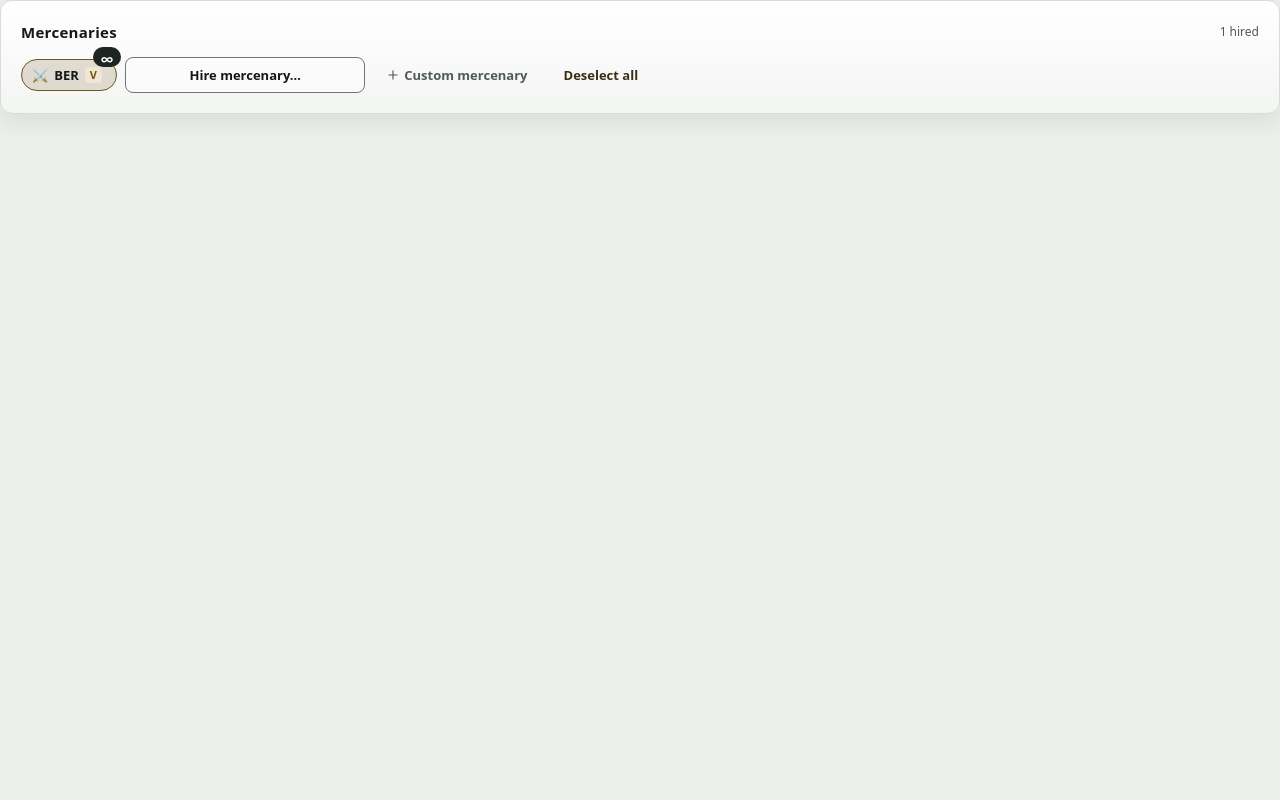
pressing a pill opens the quantity under it: a plain field, no step buttons
The width and height of the screenshot is (1280, 800).
Click the button named "Bear V: owned unlimited" at coordinates (107, 57), box [93, 47, 121, 67]
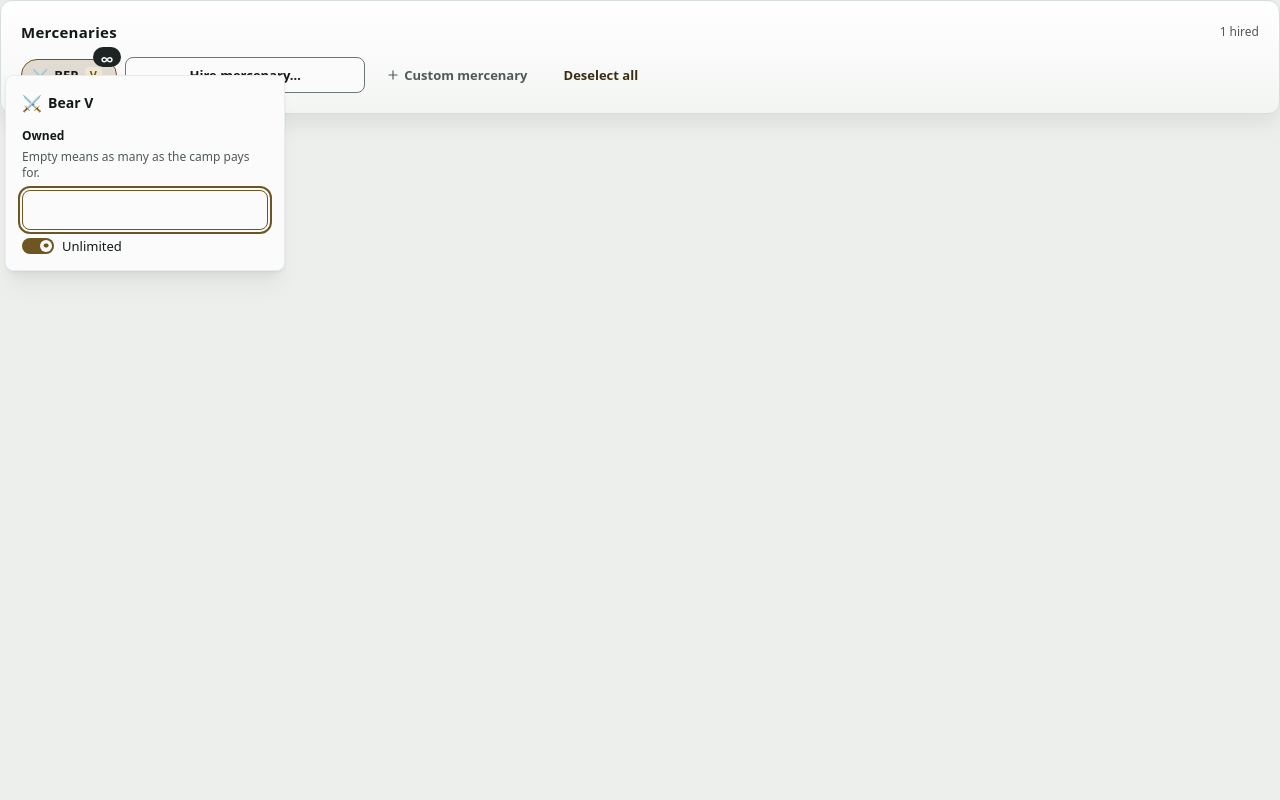
Result: the text "Bear V" is shown at [48, 92, 93, 114]
Type "22" into the field labelled "Owned" at coordinates (145, 210), box [22, 190, 268, 230]
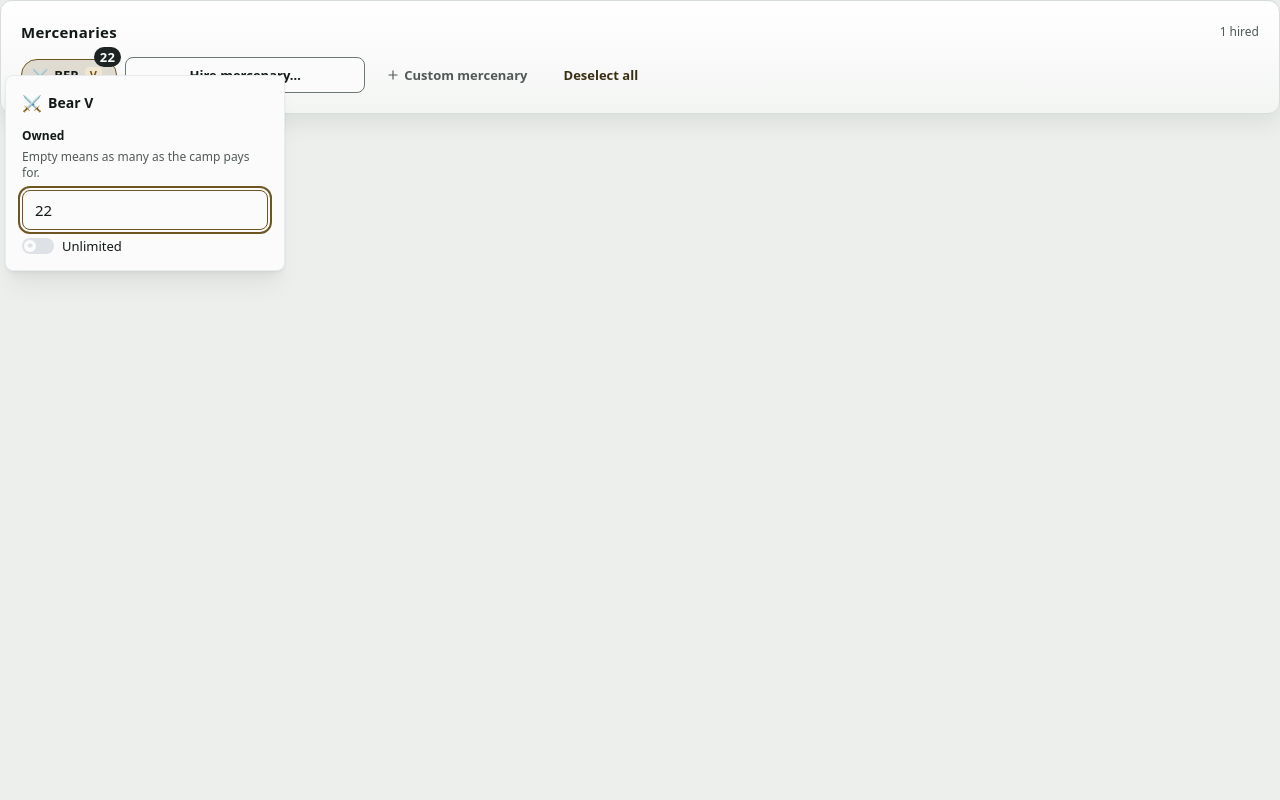
Result: the element named "Bear V: owned 22" shows "22" at [94, 47, 121, 67]
Press Enter
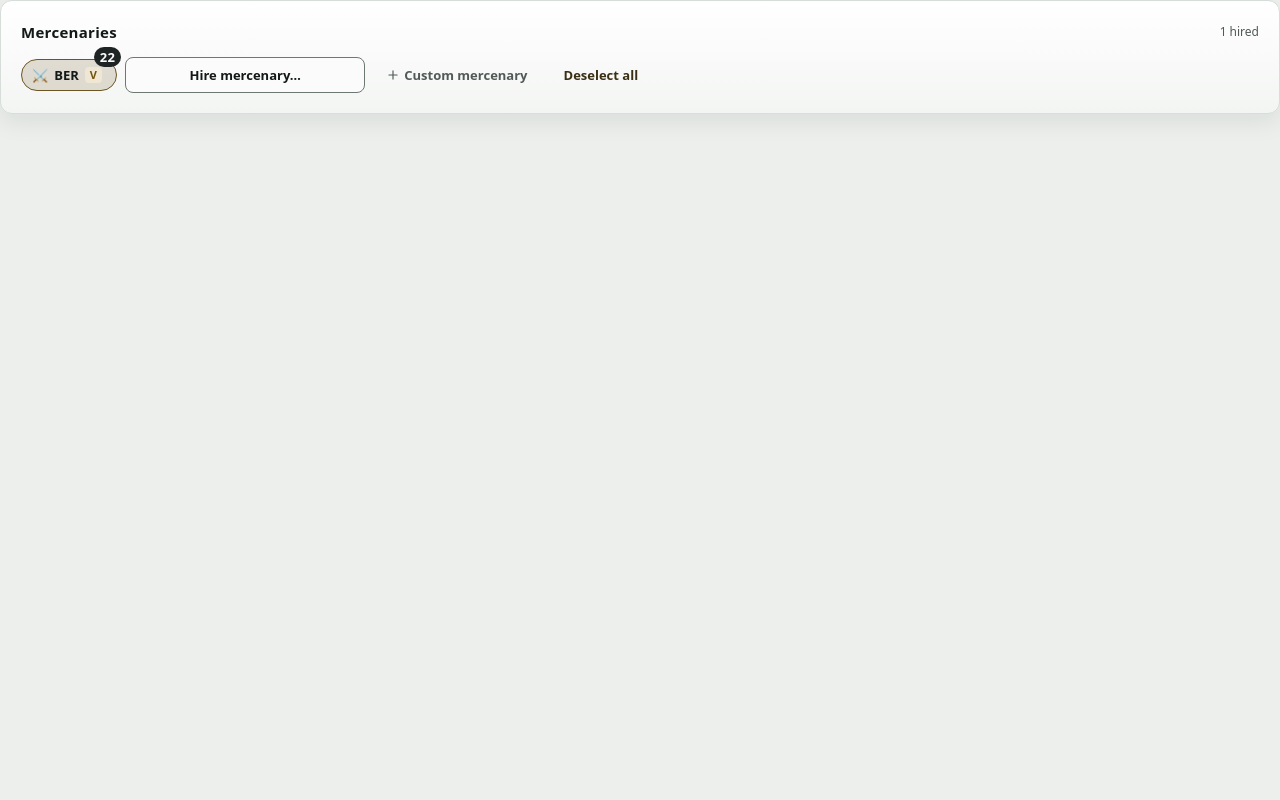
Result: the dialog is gone
